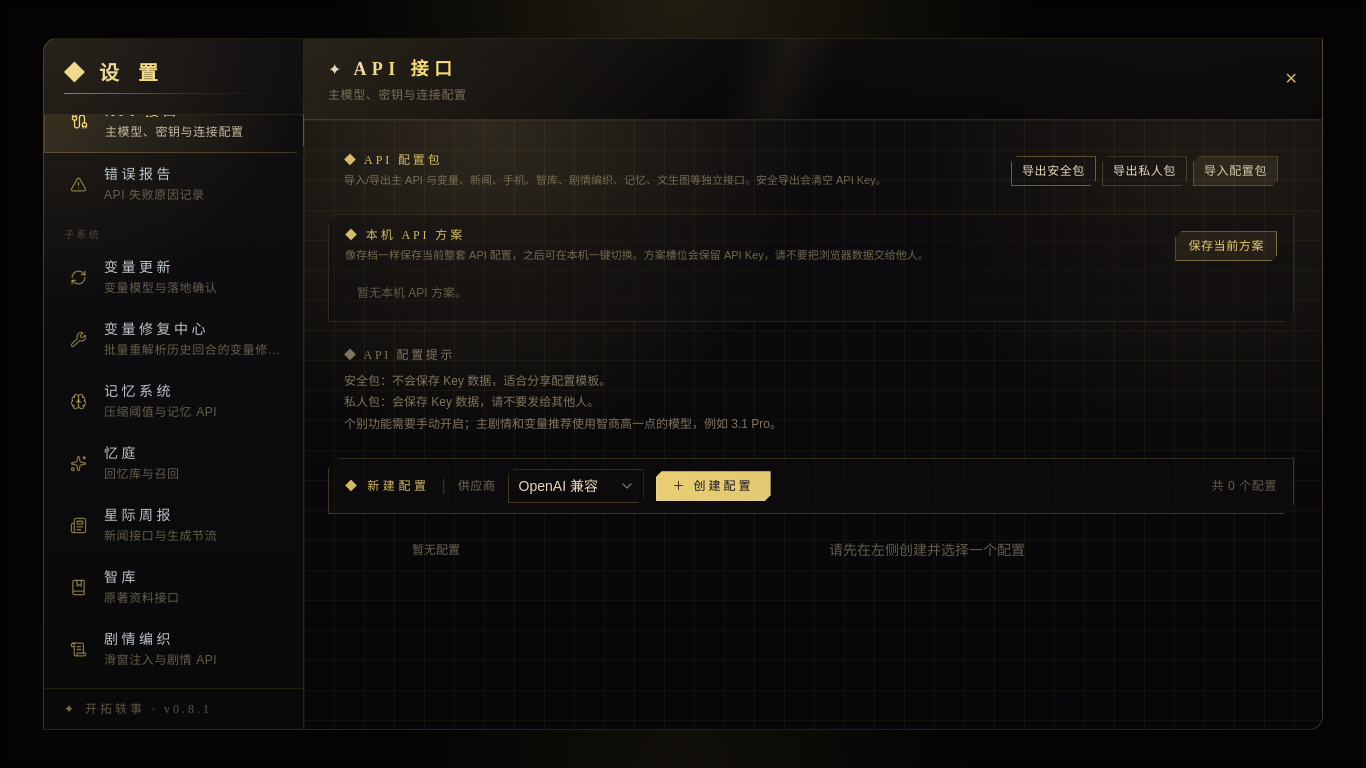
Test case: 设置分区注册表 › 子系统可以从侧栏直接进入
(page scrolled)
Click the button "记忆系统 压缩阈值与记忆 API" at (174, 401), box [44,370,304,432]
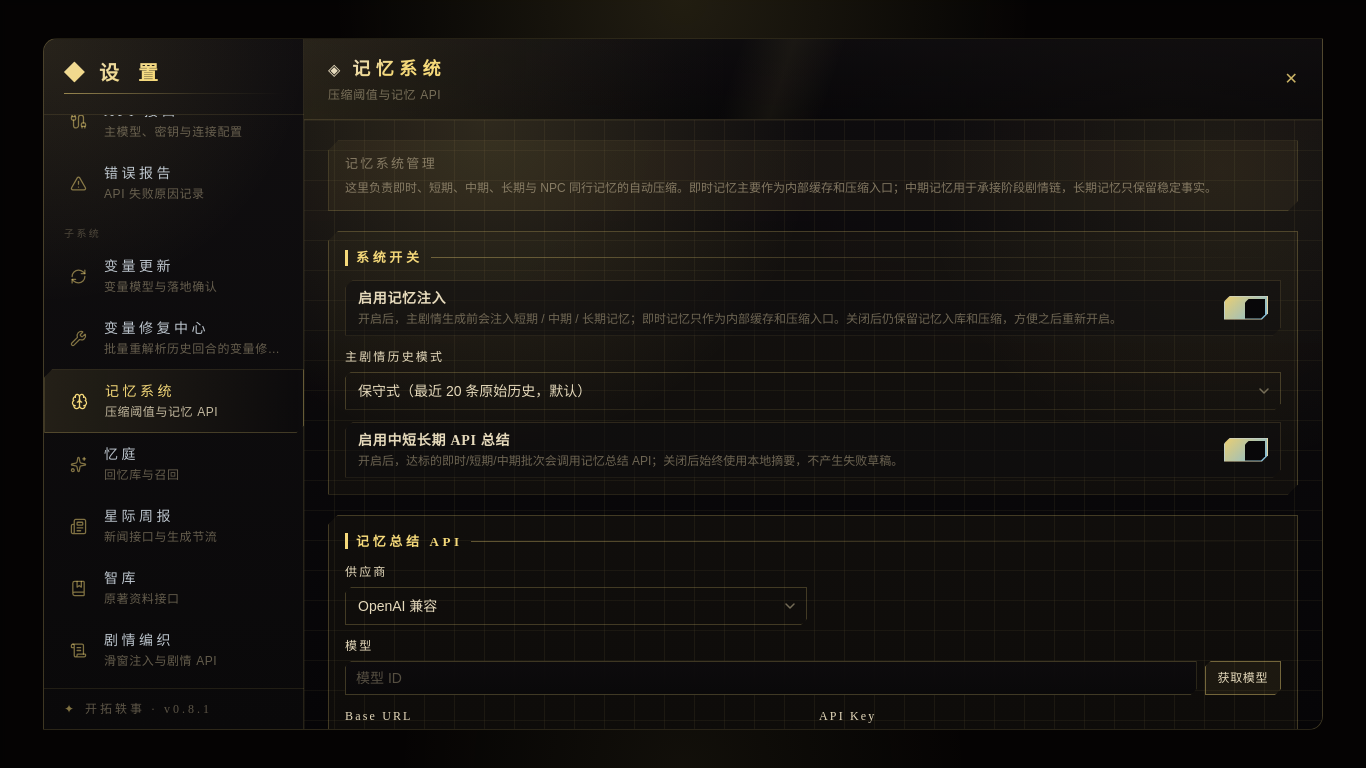
Result: the text "记忆系统管理" is shown at [345,156,437,171]
Result: the text "API 配置包" is gone
